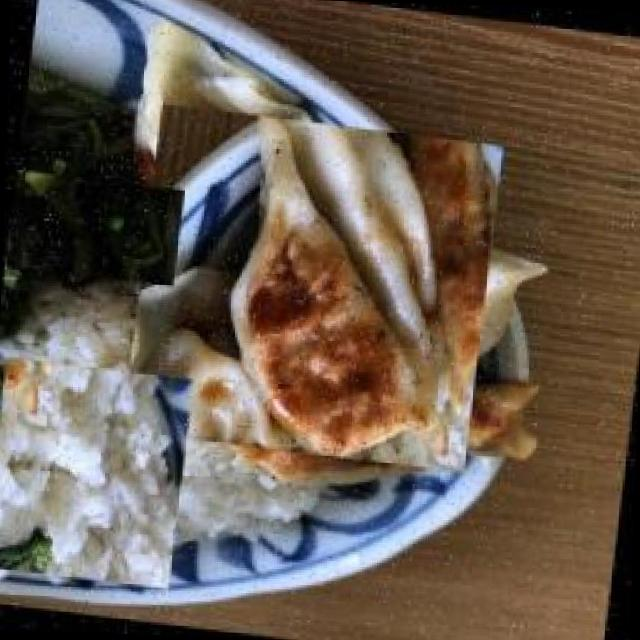fried_dumplings: (122, 98, 500, 476)
rice: (0, 360, 198, 585)
water_spinach: (0, 132, 154, 316)
